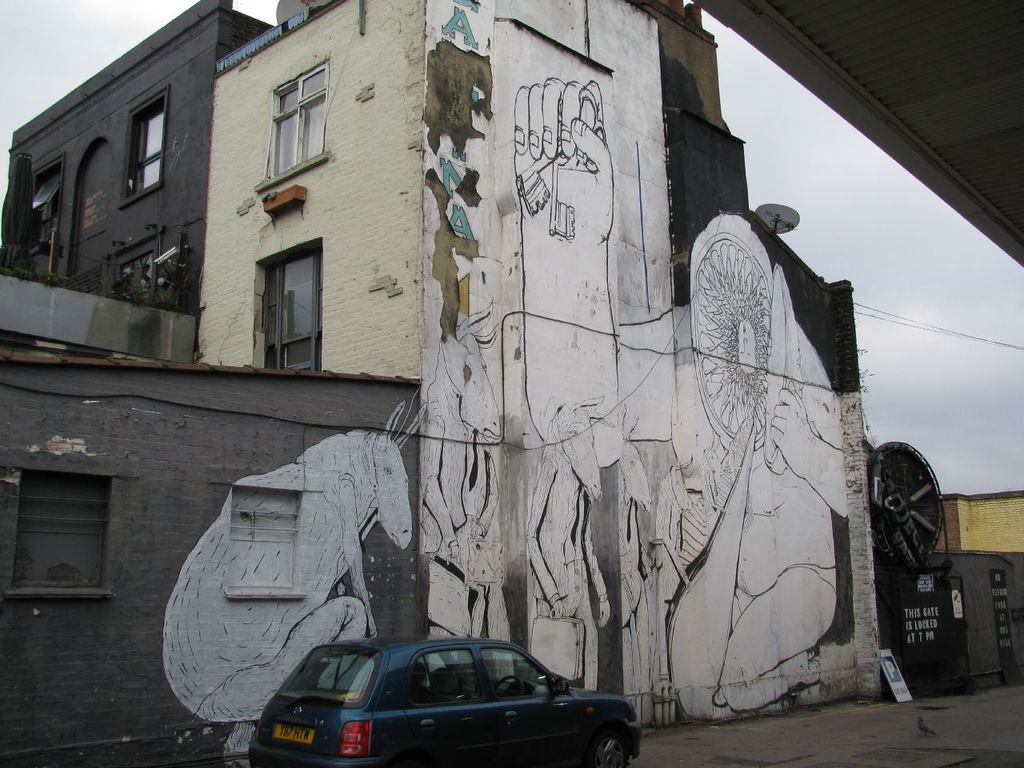Car: (250, 639, 645, 764)
